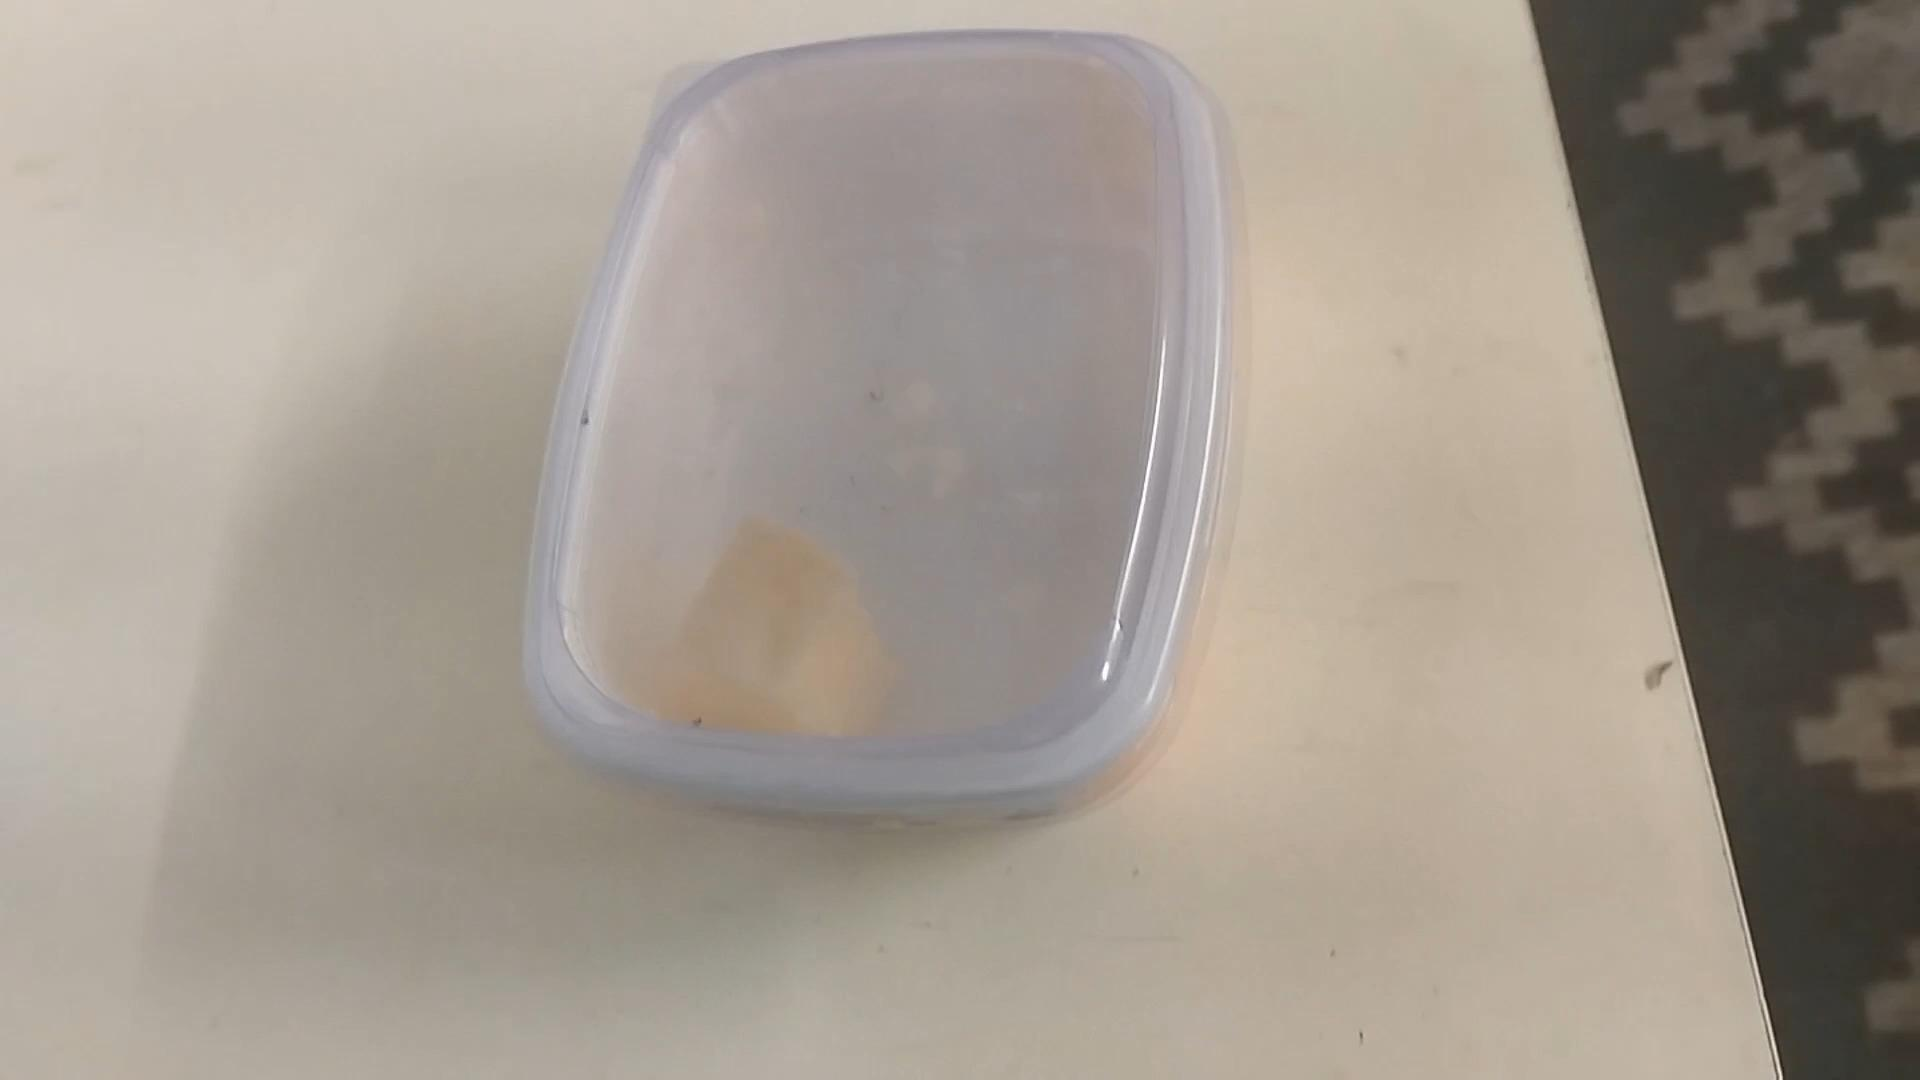butter: (517, 32, 1240, 836)
